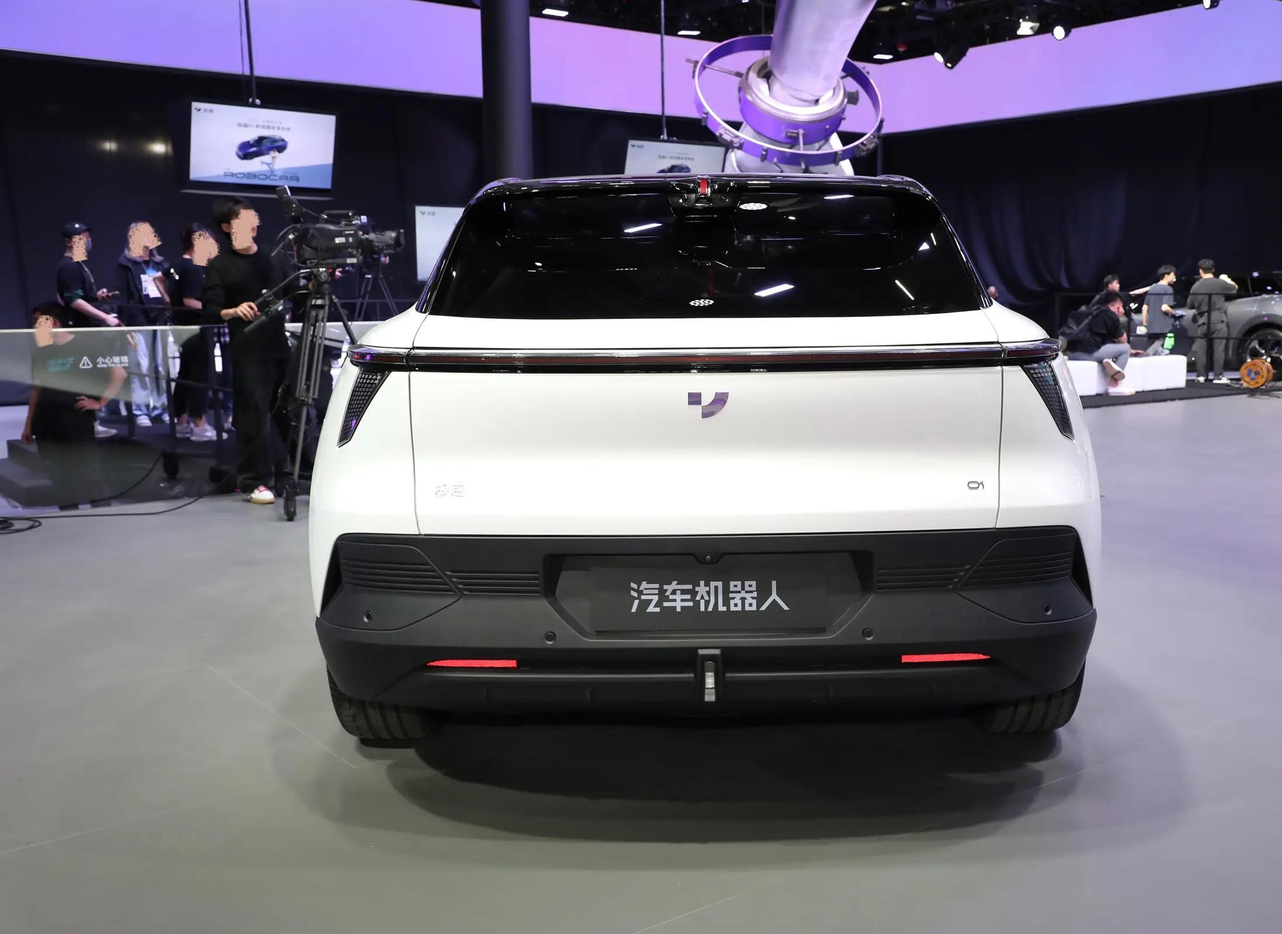JIYUE: (687, 392, 729, 420)
